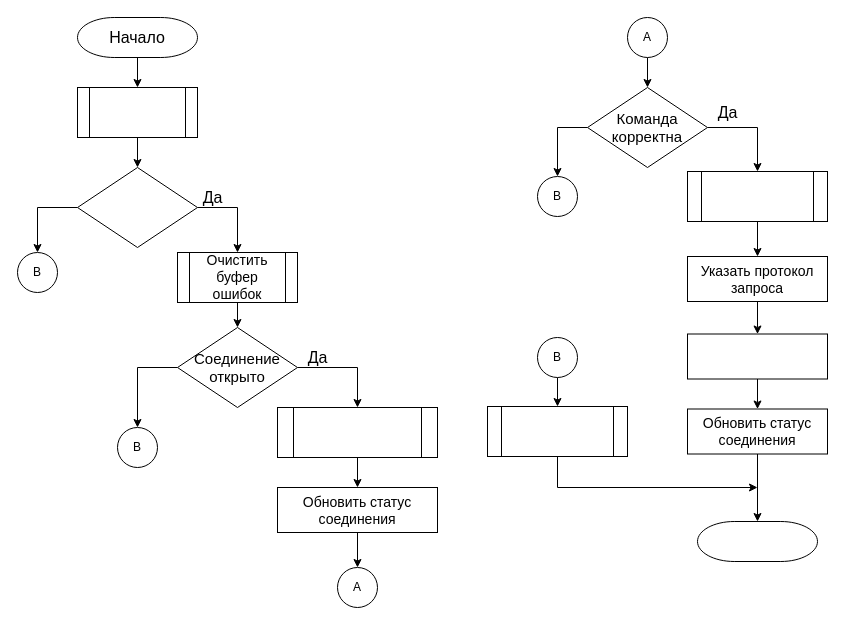
This 845x625 diagram has some shape labels left out. The box of each missing label's shape, as (x1, y1, x2, y2) in pixels:
Блокировка мьютекса: (76, 86, 198, 138)
Добавить команду в очередь: (686, 333, 828, 379)
Записать сообщение в буфер ошибок: (486, 406, 628, 456)
Конец: (696, 520, 818, 562)
Определить точку входа очереди команд: (686, 170, 828, 222)
Очистить результат предыдущего выполнения: (276, 406, 438, 458)
Соединение создано: (76, 166, 198, 248)
